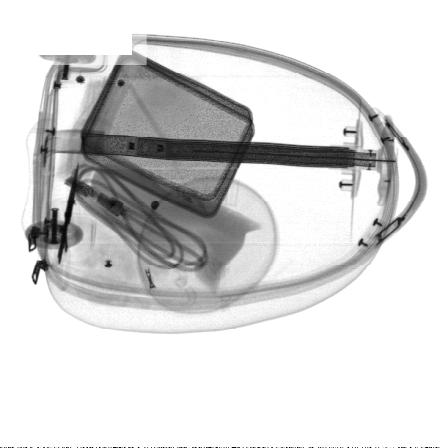Scissors: (42, 160, 80, 293)
